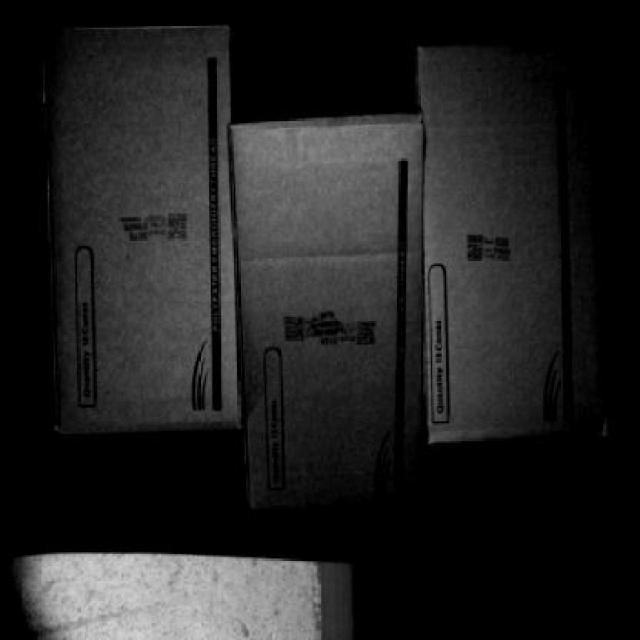box: (43, 25, 242, 428), (229, 119, 426, 506), (422, 43, 608, 446)
